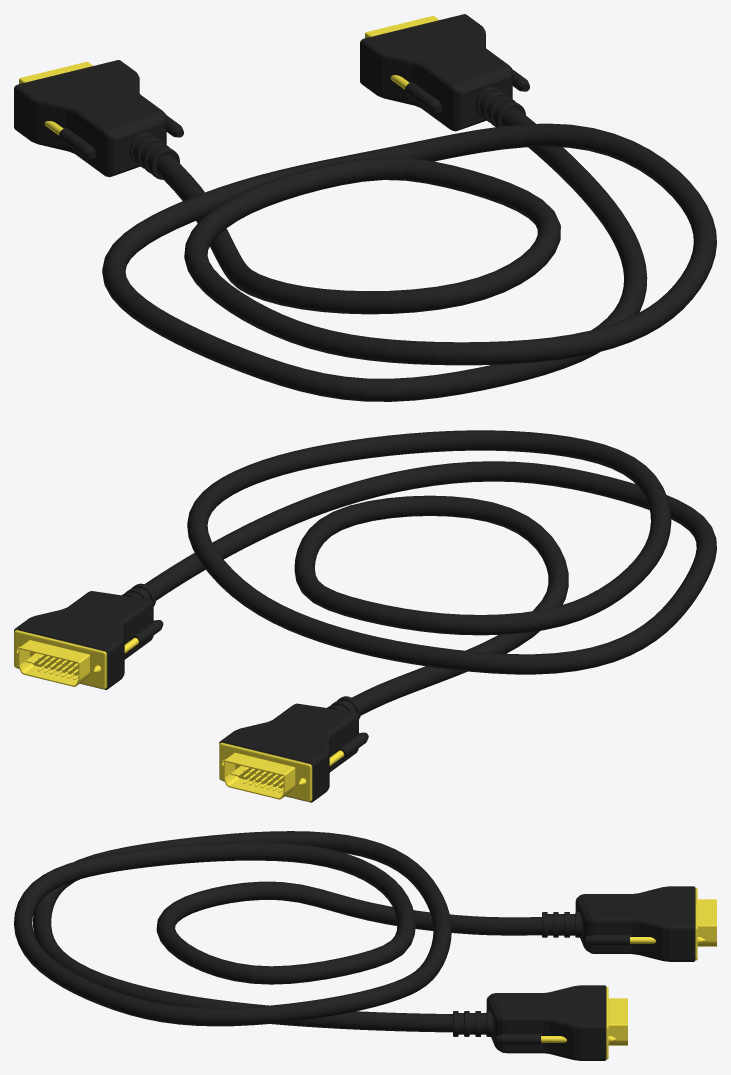
The model's file is DVI.fbx.
3 renders of one model, top to bottom at view 1: azimuth 30°, elevation 25°; view 2: azimuth 150°, elevation 25°; view 3: azimuth 270°, elevation 25°, orthographic. The views are drawn at different scales.
Visible parts, largest first — view 1: Circle.004; view 2: Circle.004; view 3: Circle.004.
Boxes of the visible parts, <box> form: Circle.004: <box>14,14,716,401</box>; Circle.004: <box>14,430,716,802</box>; Circle.004: <box>14,831,716,1060</box>.
Size of the model in its own units: 294 by 41.29 by 421.
